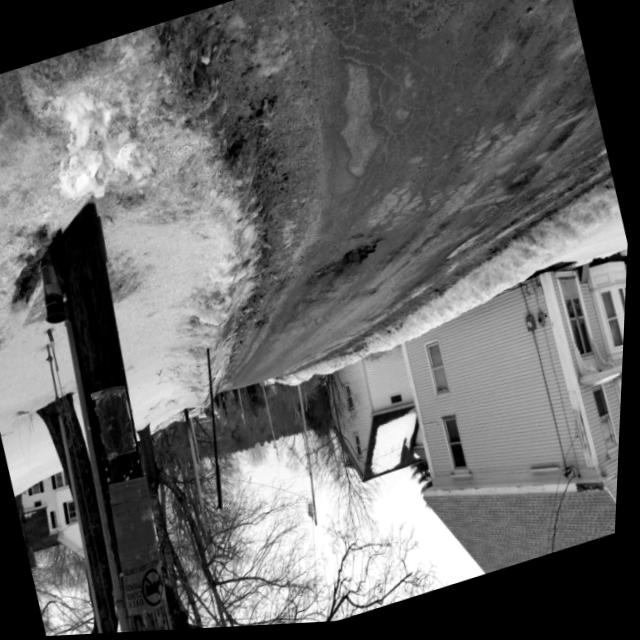pathole: (476, 80, 598, 200), (292, 209, 406, 318)
